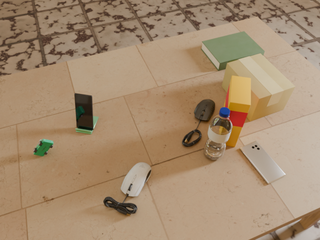book: (201, 31, 265, 71)
bottle: (204, 107, 232, 160)
box: (222, 54, 295, 121), (224, 75, 251, 147)
mouse: (121, 162, 151, 198), (194, 99, 215, 123)
phone: (240, 141, 285, 184), (75, 93, 93, 130)
toy_car: (33, 139, 53, 156)
